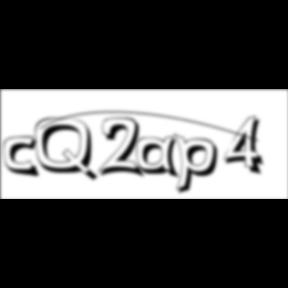2: (99, 117, 149, 181)
4: (224, 115, 270, 179)
Q: (35, 117, 101, 184)
a: (137, 135, 185, 182)
c: (4, 136, 44, 180)
p: (174, 132, 224, 198)
